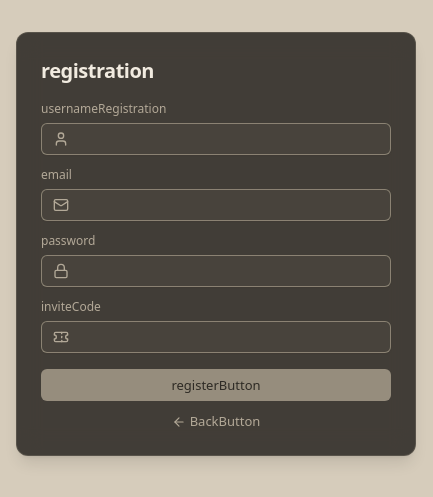
it: Registration outcomes › explains a rejection saying bad_invite
The width and height of the screenshot is (433, 497).
Type "reader" into the field labelled "usernameRegistration".
click(216, 139); type("reader")  # box [41,123,391,155]
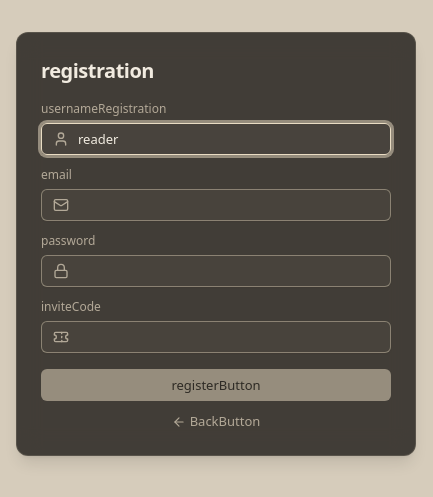
Type "reader@example.com" into the field labelled "email".
click(216, 205); type("reader@example.com")  # box [41,189,391,221]
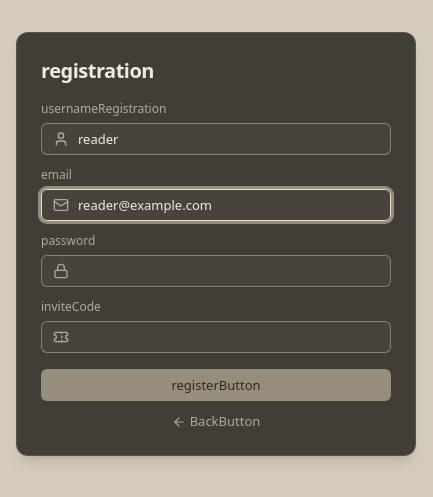
Type "secret" into the password field labelled "password".
click(216, 271); type("secret")  # box [41,255,391,287]
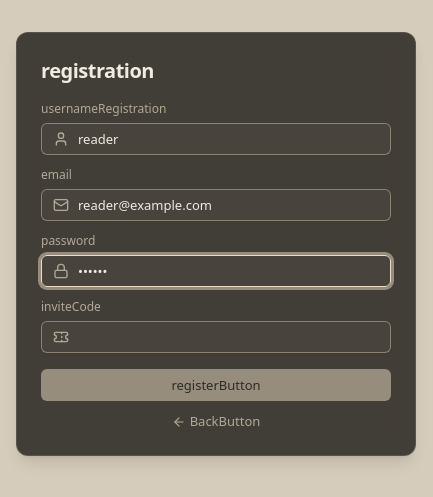
Type "invite" into the field labelled "inviteCode".
click(216, 337); type("invite")  # box [41,321,391,353]
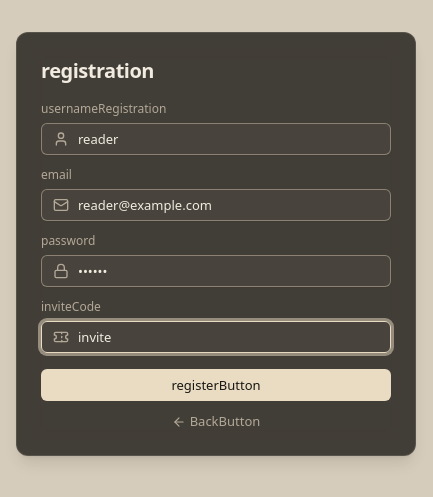
Click the button "registerButton".
click(216, 385)  # box [41,369,391,401]
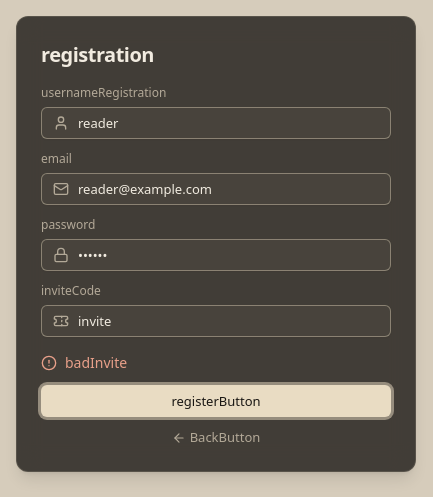
Expected: the message reads "badInvite", [65,353,127,372]
